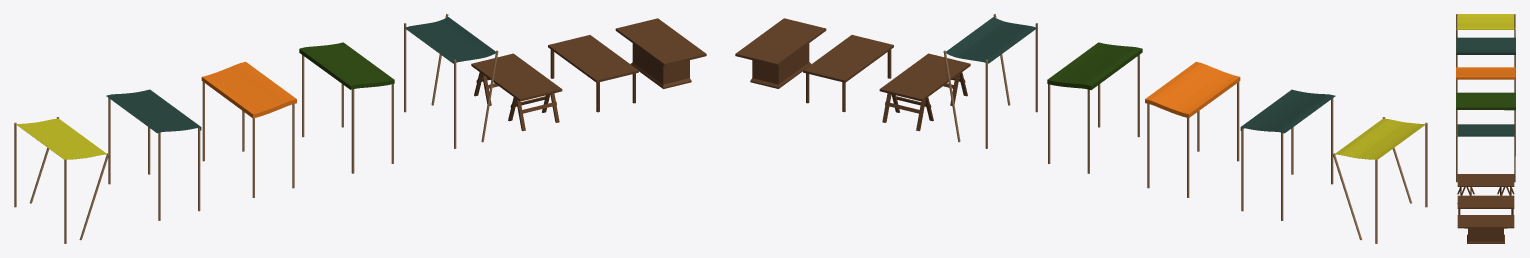
File: Marktstände.fbx
The picture shows the model from 3 angles, left to right: view 1: azimuth 30°, elevation 25°; view 2: azimuth 150°, elevation 25°; view 3: azimuth 270°, elevation 25°; orthographic projection. The views are drawn at different scales.
Visible parts, largest first — view 1: Dach3, Tisch3, Dach2, Tisch1, Dach1, Dach4, Dach5, Tisch2; view 2: Dach3, Tisch3, Dach2, Tisch1, Dach1, Dach4, Dach5, Tisch2; view 3: Tisch3, Dach2, Dach4, Dach5, Dach1, Tisch1, Tisch2, Dach3.
Part boxes in pixels (<box>): Dach3: <box>201,61,296,197</box>; Tisch3: <box>615,18,706,88</box>; Dach2: <box>299,42,394,173</box>; Tisch1: <box>471,53,562,130</box>; Dach1: <box>404,14,498,148</box>; Dach4: <box>106,89,201,220</box>; Dach5: <box>14,117,109,243</box>; Tisch2: <box>548,35,638,112</box>; Dach3: <box>1145,61,1240,197</box>; Tisch3: <box>735,18,826,88</box>; Dach2: <box>1047,42,1142,173</box>; Tisch1: <box>879,53,970,130</box>; Dach1: <box>943,14,1037,148</box>; Dach4: <box>1240,89,1335,220</box>; Dach5: <box>1332,117,1427,243</box>; Tisch2: <box>803,35,893,112</box>; Tisch3: <box>1457,215,1514,243</box>; Dach2: <box>1456,92,1515,155</box>; Dach4: <box>1456,37,1515,92</box>; Dach5: <box>1456,14,1515,66</box>; Dach1: <box>1456,122,1515,182</box>; Tisch1: <box>1457,174,1514,203</box>; Tisch2: <box>1457,195,1514,214</box>; Dach3: <box>1456,67,1515,92</box>.
Bounding box in the file's own units: 6096 × 802 × 842.
